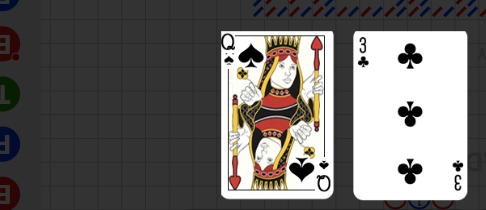3C: (450, 157, 464, 192)
9S: (221, 31, 236, 67)
